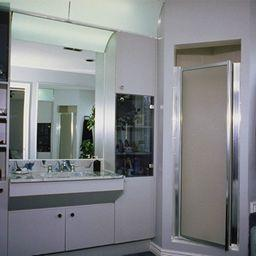Ducha: (173, 63, 245, 255)
Lavamanos: (8, 163, 122, 194)
